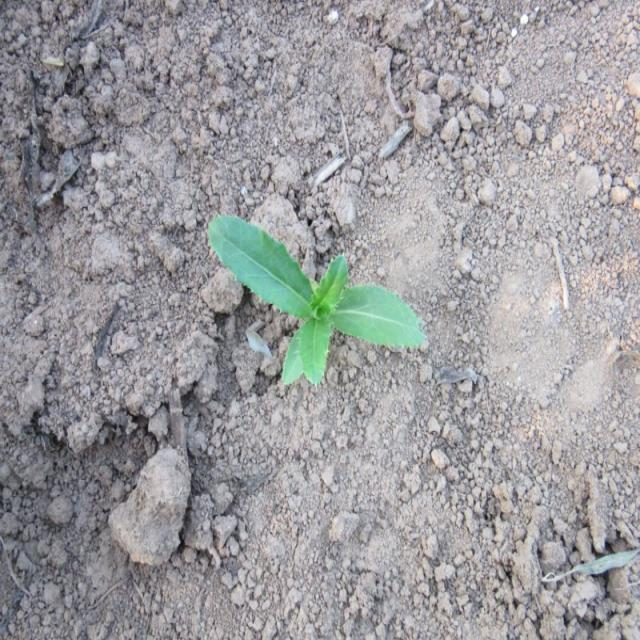cs: (206, 211, 427, 389)
